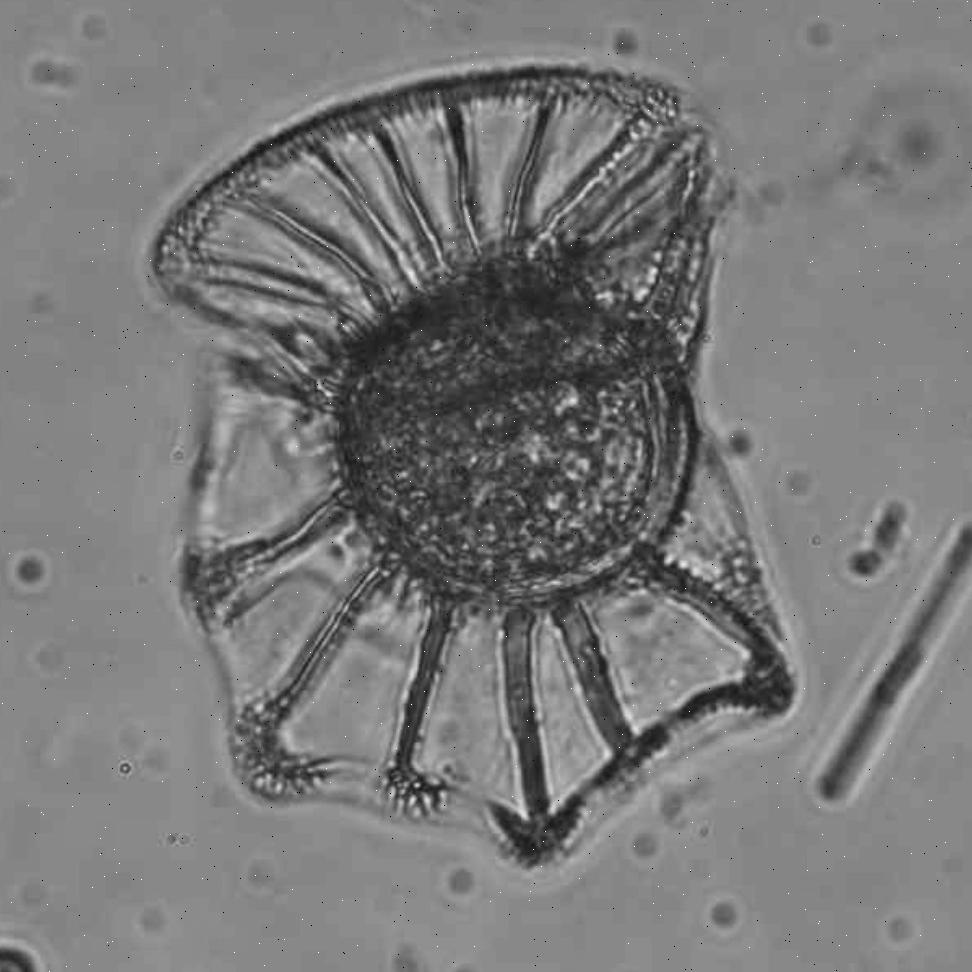ornithocercus_thumii: (148, 71, 802, 882)
